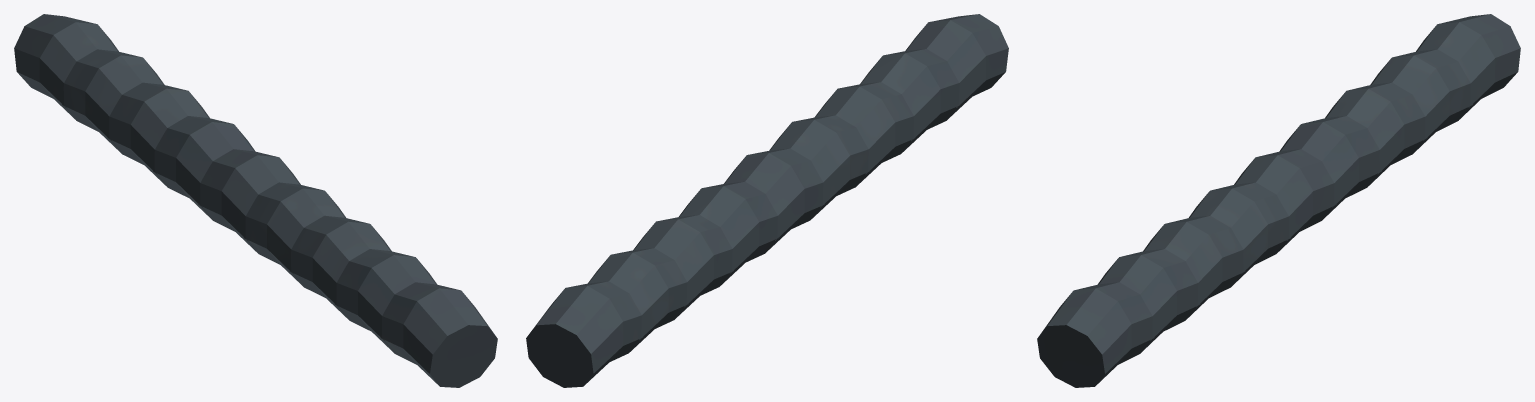
Rendered from AR_Roof_Ridge_2m.glb.
3 views of the same model, side by side, from view 1: azimuth 30°, elevation 25°; view 2: azimuth 150°, elevation 25°; view 3: azimuth 330°, elevation 25° (orthographic).
Visible parts, largest first — view 1: AR_Roof_Ridge_2m; view 2: AR_Roof_Ridge_2m; view 3: AR_Roof_Ridge_2m.
Boxes of the visible parts, x1,y1,x2,y2 form: AR_Roof_Ridge_2m: [14, 14, 497, 387]; AR_Roof_Ridge_2m: [526, 14, 1008, 387]; AR_Roof_Ridge_2m: [1037, 14, 1520, 387].
Size of the model in its own units: 0.2092 by 0.2378 by 2.15.
Materials: 1 (1 with a texture image).
